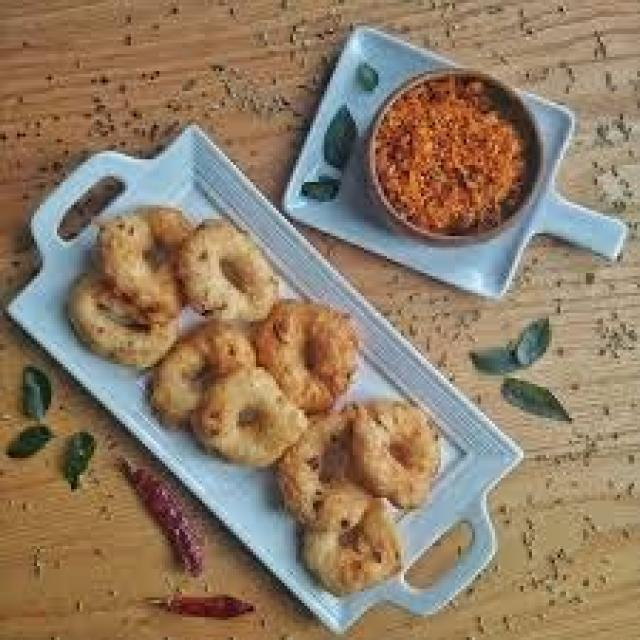medu vadai: (252, 301, 360, 415), (276, 407, 370, 526), (177, 219, 280, 325), (195, 368, 306, 466), (69, 274, 182, 370), (95, 208, 190, 320), (153, 322, 255, 424), (303, 498, 401, 594), (274, 409, 354, 523), (353, 401, 438, 506), (199, 322, 254, 373), (145, 206, 195, 254)
